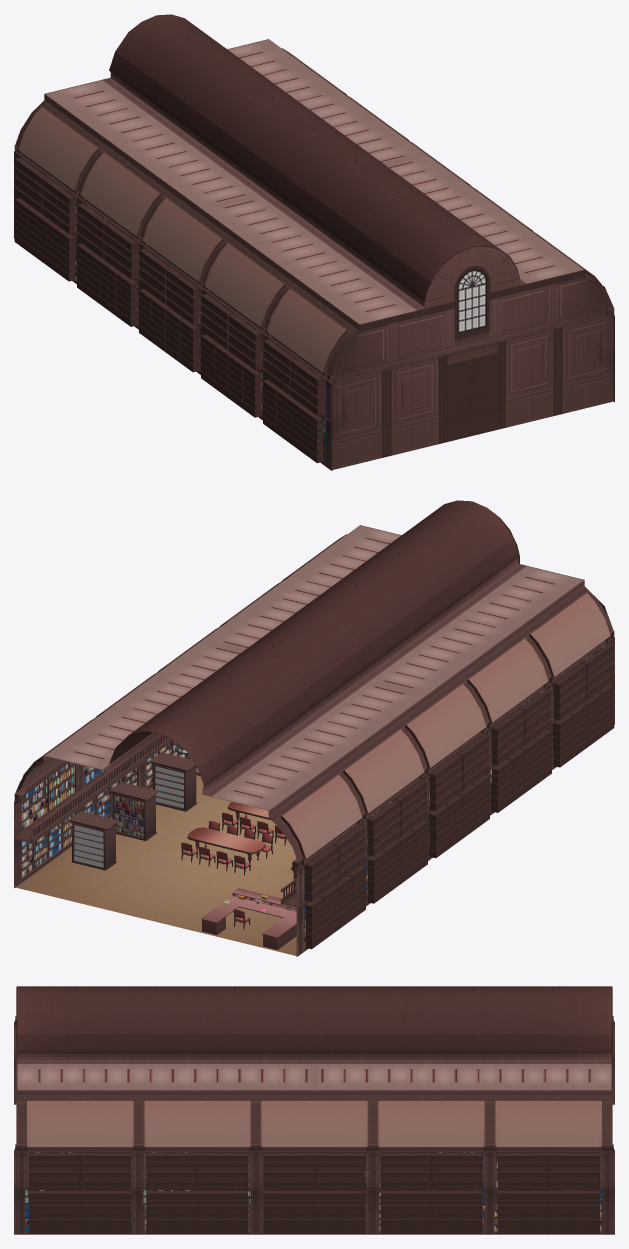
The model's file is ZhiBanShi_01.FBX.
The picture shows the model from 3 angles, top to bottom: view 1: azimuth 30°, elevation 25°; view 2: azimuth 150°, elevation 25°; view 3: azimuth 270°, elevation 25°; orthographic projection. The views are drawn at different scales.
Visible parts, largest first — view 1: polySurface600, qiangbi_02, book_01; view 2: polySurface600, guizi_04, book_02, ZhiBanShi_zuozi_02, yizi_02, zhuozi_01, pCube60, pCube61, pCube58, book_01; view 3: polySurface600, book_02.
Boxes of the visible parts, x1,y1,x2,y2 form: polySurface600: [14, 14, 614, 470]; qiangbi_02: [330, 245, 613, 469]; book_01: [20, 157, 325, 462]; polySurface600: [14, 500, 614, 956]; guizi_04: [69, 752, 200, 870]; book_02: [22, 740, 188, 876]; ZhiBanShi_zuozi_02: [201, 888, 296, 949]; yizi_02: [181, 812, 286, 875]; zhuozi_01: [187, 802, 270, 865]; pCube60: [74, 825, 103, 867]; pCube61: [114, 795, 143, 837]; pCube58: [155, 766, 183, 807]; book_01: [304, 643, 610, 948]; polySurface600: [14, 986, 614, 1234]; book_02: [25, 1152, 602, 1231].
Bounding box in the file's own units: 6676 × 4124 × 12374.
